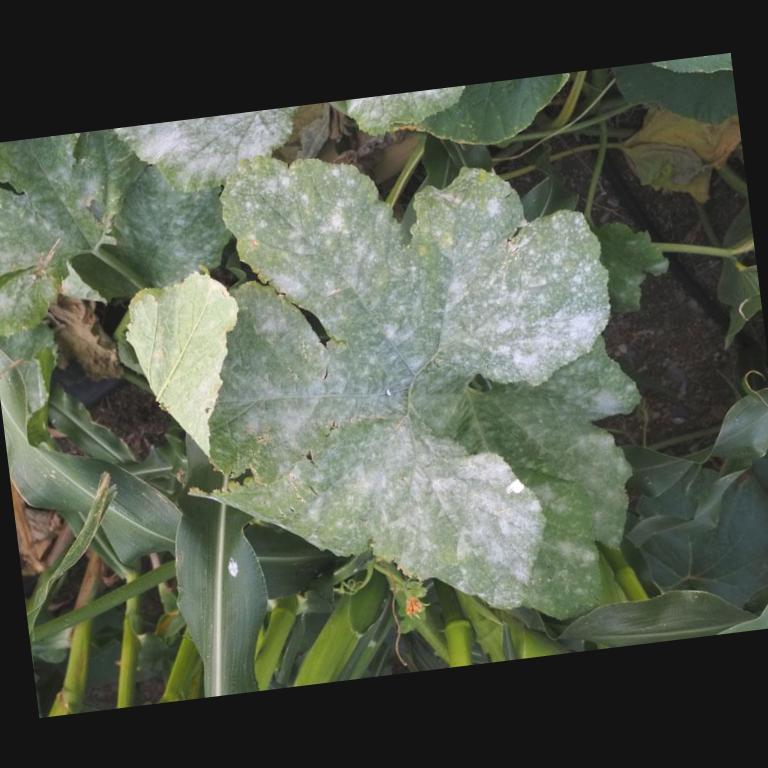powdery-mildew: (259, 366, 387, 488), (256, 175, 378, 297), (446, 249, 576, 356), (412, 474, 520, 572)
